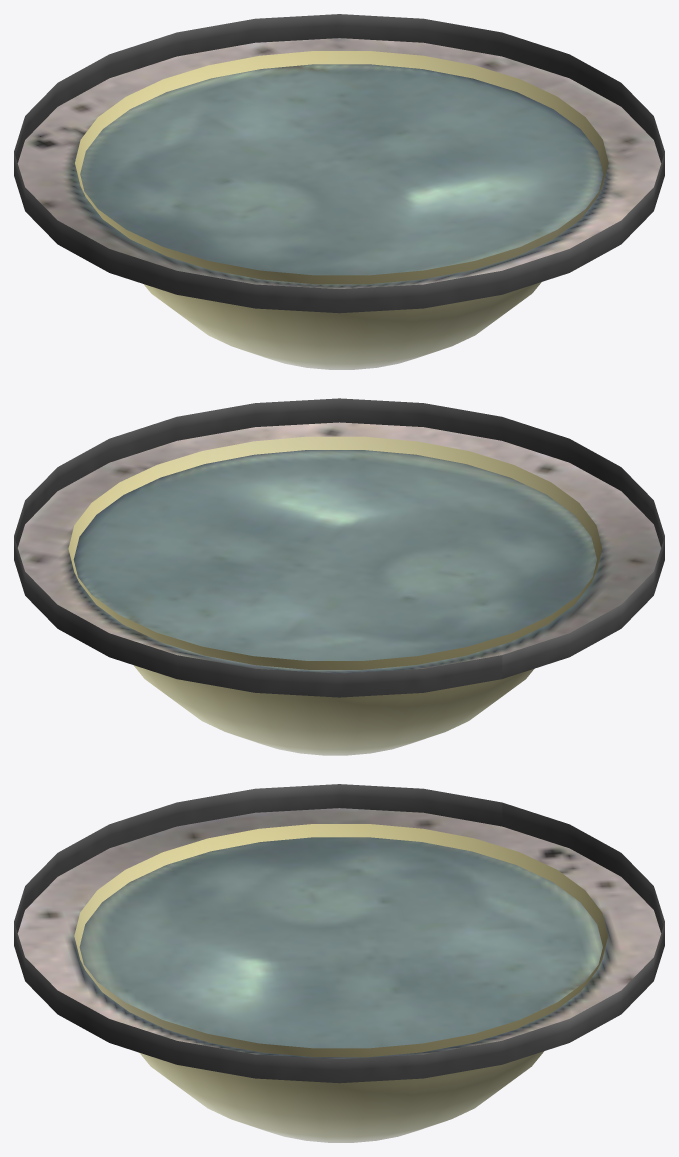
Rendered from ExportLibraryLighter_01.FBX.
3 views of the same model, one above another, from view 1: azimuth 30°, elevation 25°; view 2: azimuth 150°, elevation 25°; view 3: azimuth 270°, elevation 25° (orthographic).
Parts seen in each view (by area): view 1: lib_lamp_001, lib_lamp_lighter_001; view 2: lib_lamp_001, lib_lamp_lighter_001; view 3: lib_lamp_001, lib_lamp_lighter_001.
Boxes of the visible parts, x1,y1,x2,y2 form: lib_lamp_001: (14, 14, 664, 313); lib_lamp_lighter_001: (75, 51, 608, 369); lib_lamp_001: (14, 398, 664, 697); lib_lamp_lighter_001: (68, 436, 602, 755); lib_lamp_001: (14, 784, 664, 1083); lib_lamp_lighter_001: (74, 824, 607, 1142).
Bounding box in the file's own units: 85.65 × 85.65 × 28.23.
